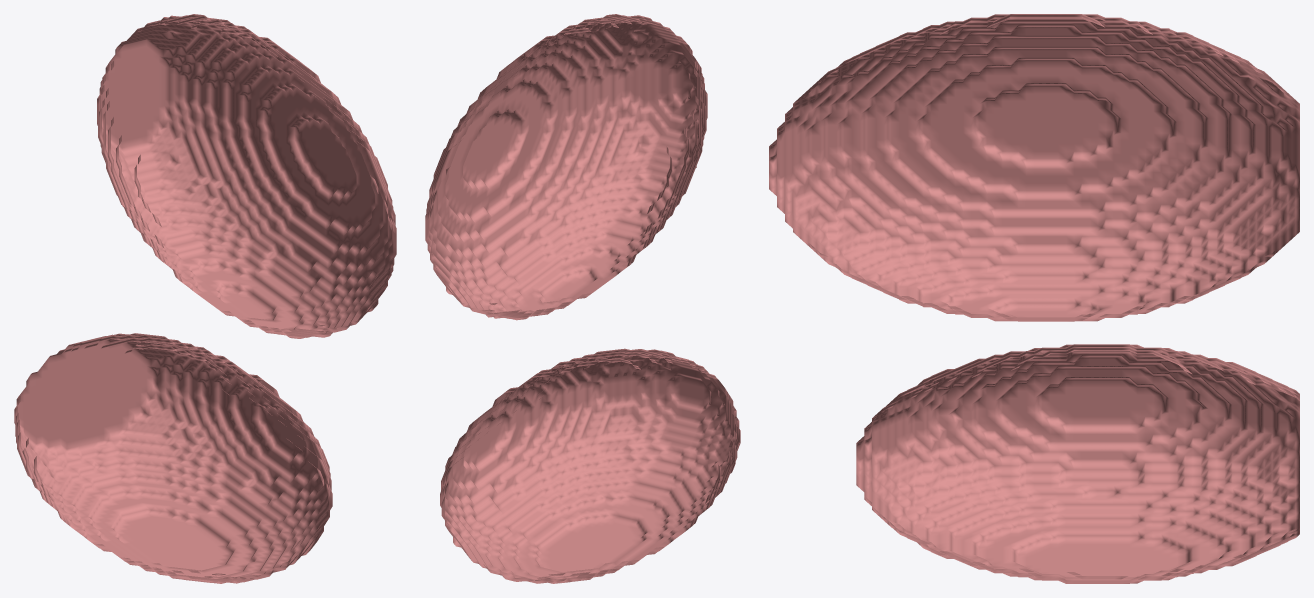
The model's file is 199501_occ.glb.
The picture shows the model from 3 angles, left to right: view 1: azimuth 30°, elevation 25°; view 2: azimuth 150°, elevation 25°; view 3: azimuth 270°, elevation 25°; orthographic projection. The views are drawn at different scales.
Parts seen in each view (by area): view 1: world; view 2: world; view 3: world.
Boxes of the visible parts, box(x1,y1,x2,y2) form: world: box(14, 14, 396, 583); world: box(425, 14, 740, 583); world: box(769, 14, 1299, 583).
Size of the model in its own units: 4 by 7.9 by 6.7.
